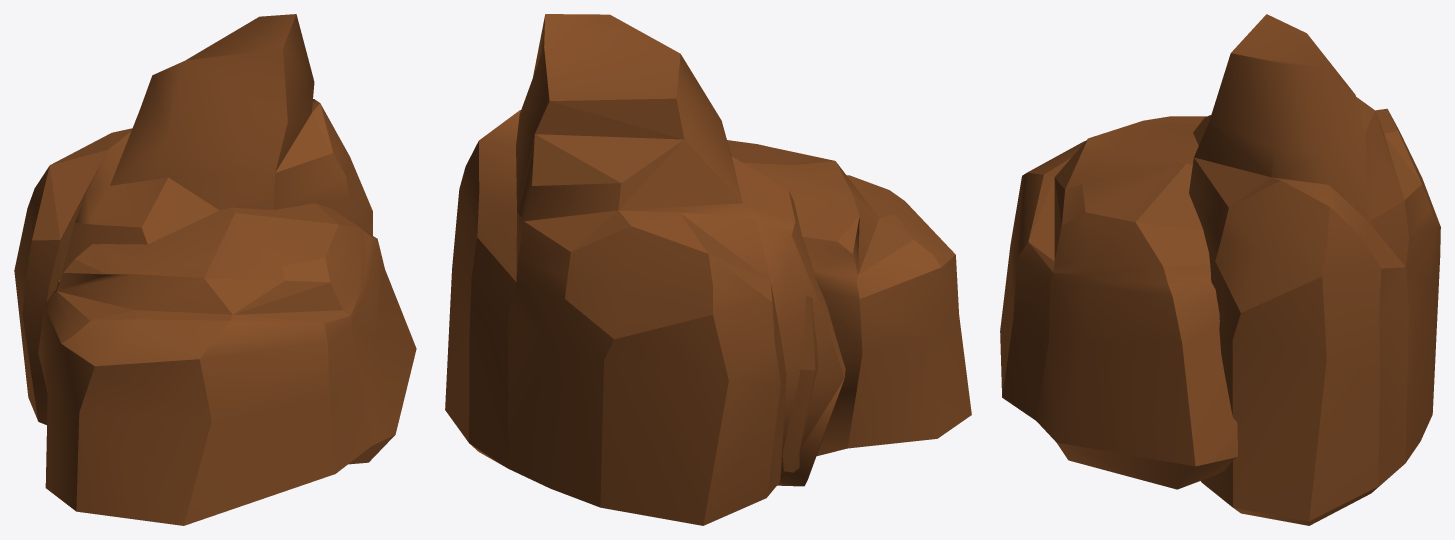
The model's file is Rock_Large_2_Cube.obj.
The picture shows the model from 3 angles, left to right: view 1: azimuth 30°, elevation 25°; view 2: azimuth 150°, elevation 25°; view 3: azimuth 270°, elevation 25°; orthographic projection. The views are drawn at different scales.
Visible parts, largest first — view 1: Rock_Large_2_Cube.030; view 2: Rock_Large_2_Cube.030; view 3: Rock_Large_2_Cube.030.
Part boxes in pixels (x1=…): Rock_Large_2_Cube.030: x1=14, y1=14, x2=416, y2=525; Rock_Large_2_Cube.030: x1=445, y1=14, x2=971, y2=525; Rock_Large_2_Cube.030: x1=1000, y1=14, x2=1440, y2=525.
Size of the model in its own units: 8.54 by 8.21 by 7.62.
